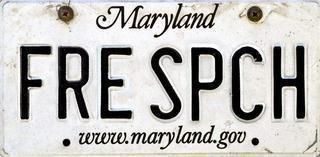placa de veiculo: (2, 2, 314, 152)
